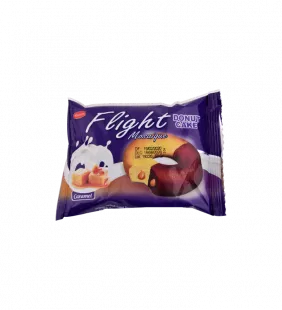FLIGHT: (45, 83, 236, 227)
